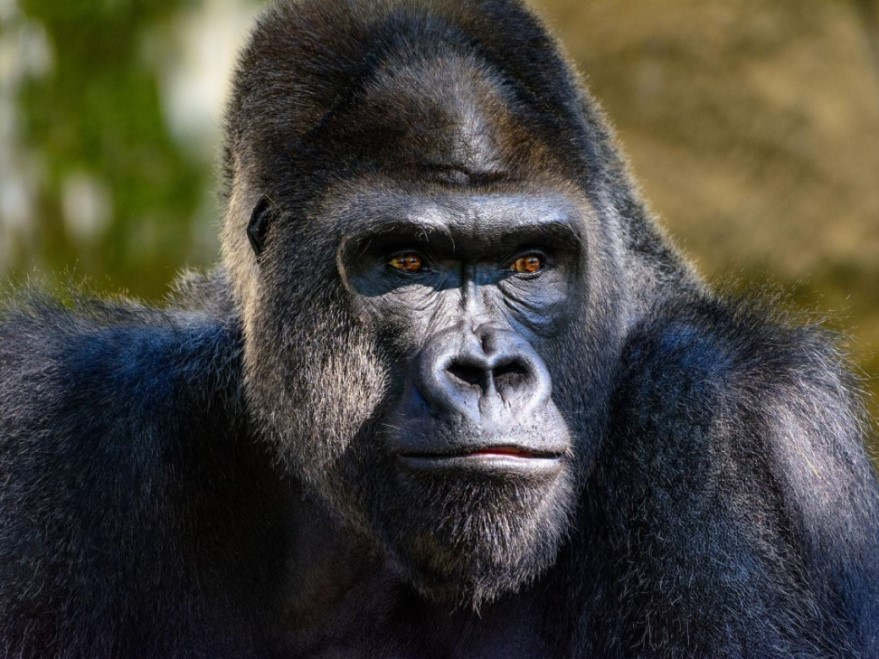Gorilla: (205, 23, 695, 580)
